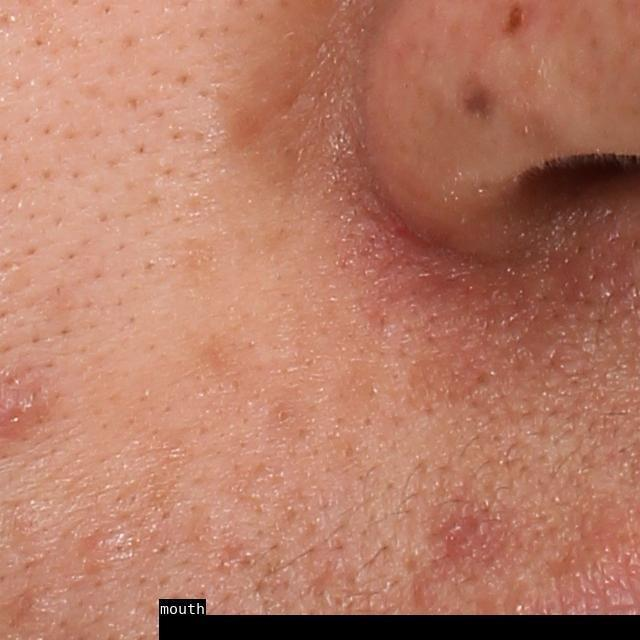comedo: (275, 404, 299, 430)
nevus: (500, 1, 533, 35)
